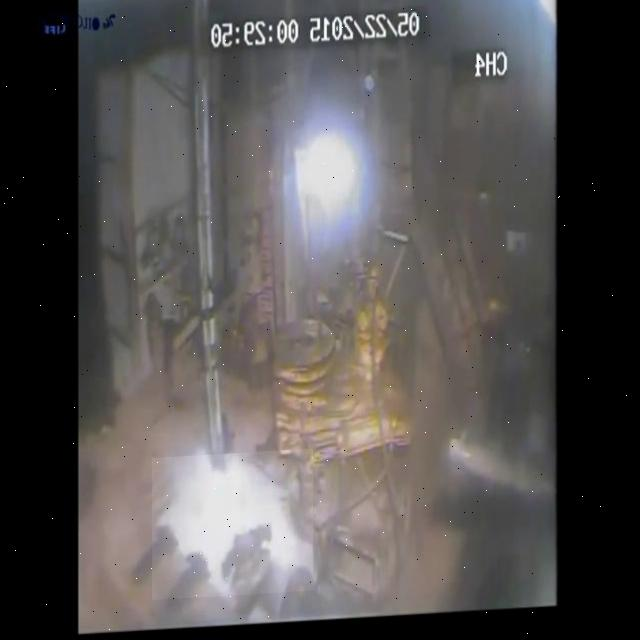spillage: (152, 453, 313, 601)
